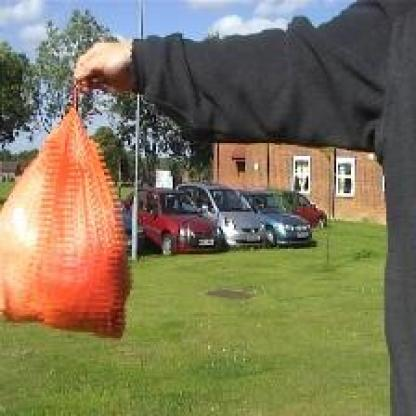other: (5, 99, 149, 344)
